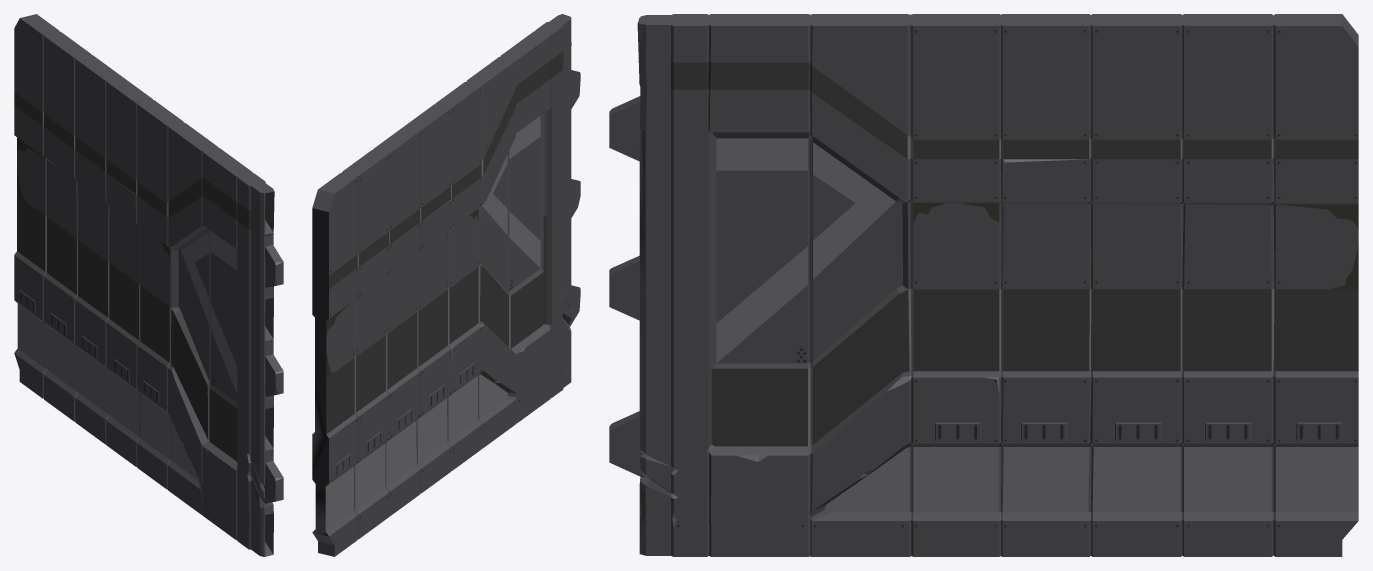
Rendered from SM_Bld_HangerExteriorDoor_01.fbx.
The picture shows the model from 3 angles, left to right: view 1: azimuth 30°, elevation 25°; view 2: azimuth 150°, elevation 25°; view 3: azimuth 270°, elevation 25°; orthographic projection. The views are drawn at different scales.
Parts seen in each view (by area): view 1: SM_Bld_HangerExteriorDoor_01_LOD0; view 2: SM_Bld_HangerExteriorDoor_01_LOD0; view 3: SM_Bld_HangerExteriorDoor_01_LOD0.
Boxes of the visible parts, bbox=[...] form: SM_Bld_HangerExteriorDoor_01_LOD0: bbox=[14, 14, 283, 556]; SM_Bld_HangerExteriorDoor_01_LOD0: bbox=[312, 14, 580, 556]; SM_Bld_HangerExteriorDoor_01_LOD0: bbox=[609, 14, 1358, 556].
Size of the model in its own units: 1401 by 57.77 by 1095.
1 material, 1 textured.
